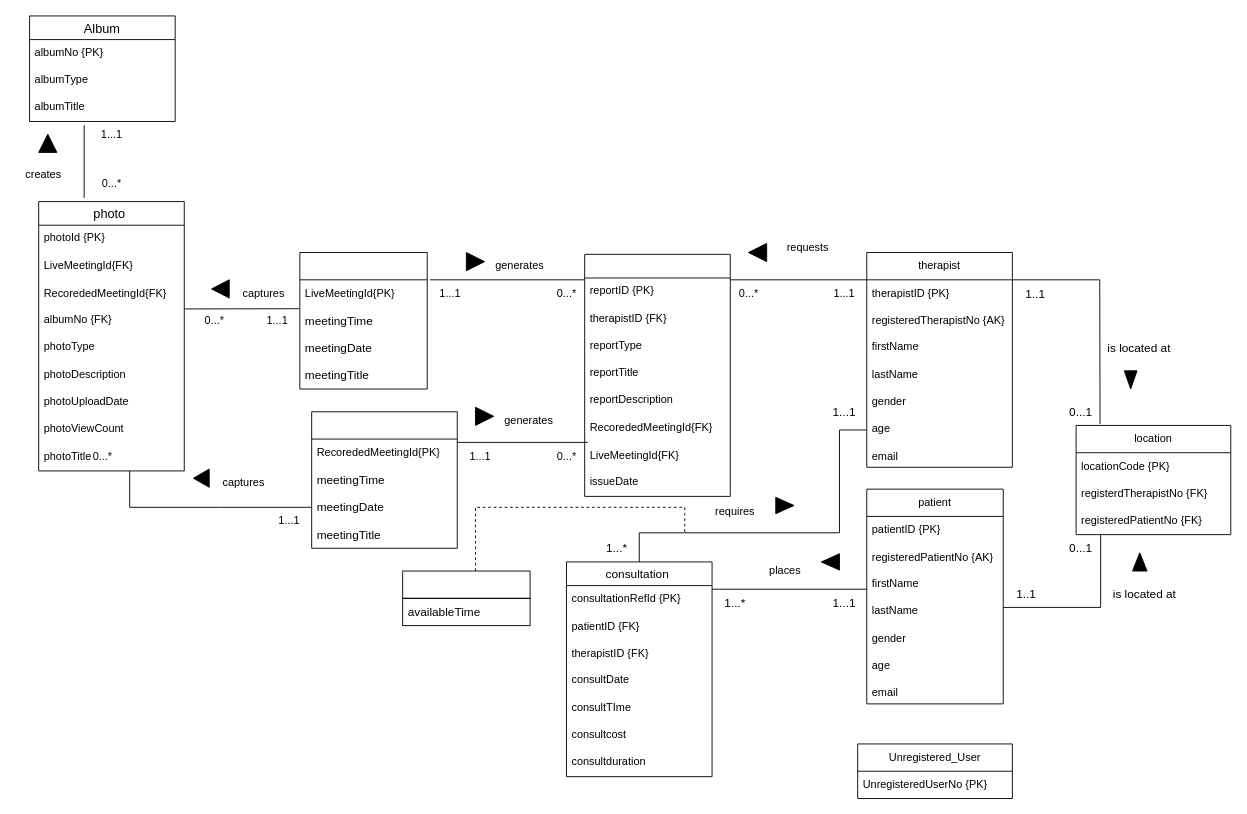
The diagram is 1247 pixels wide and 814 high, and some of its shapes have lost their labels. The box of each missing label's shape, as (x1, y1, x2, y2) in pixels:
availableDate: (402, 570, 530, 598)
Live_Session: (299, 252, 427, 389)
Recorded_Session: (311, 411, 457, 548)
reports: (584, 253, 730, 496)
